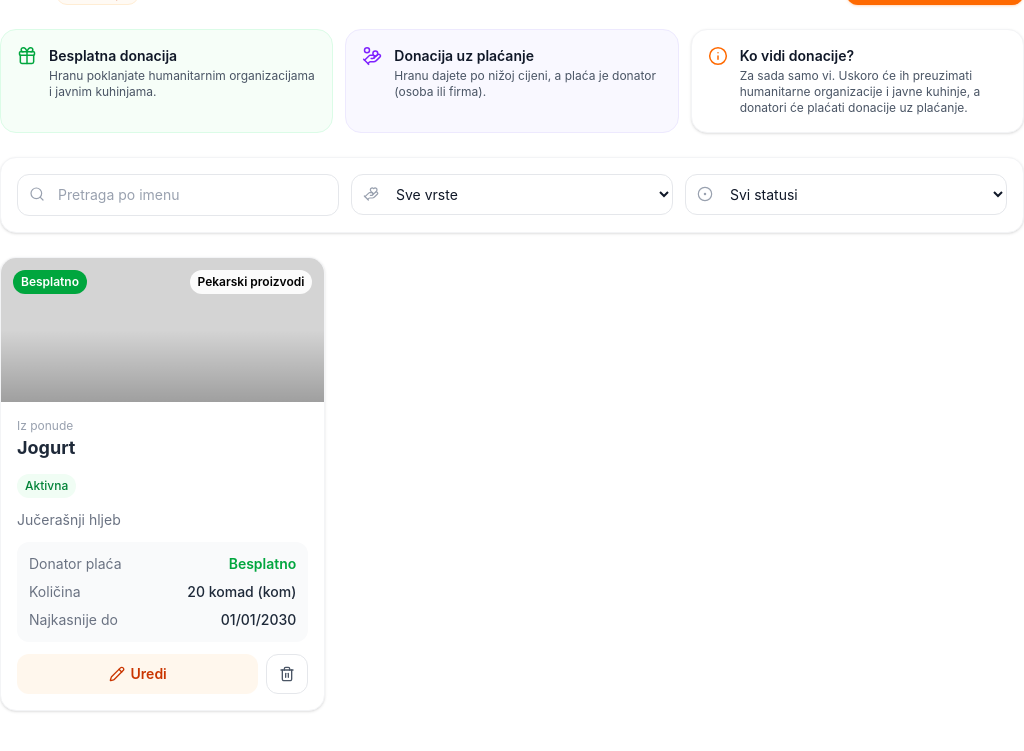
Test: DonateFoodPage › offers returning a moved product to the offer instead of deleting it
(page scrolled)
What coordinates should you click on to do the following:
click the button named "Obriši"
I would click on:
 (287, 674)
Its box is [266,654,308,694].
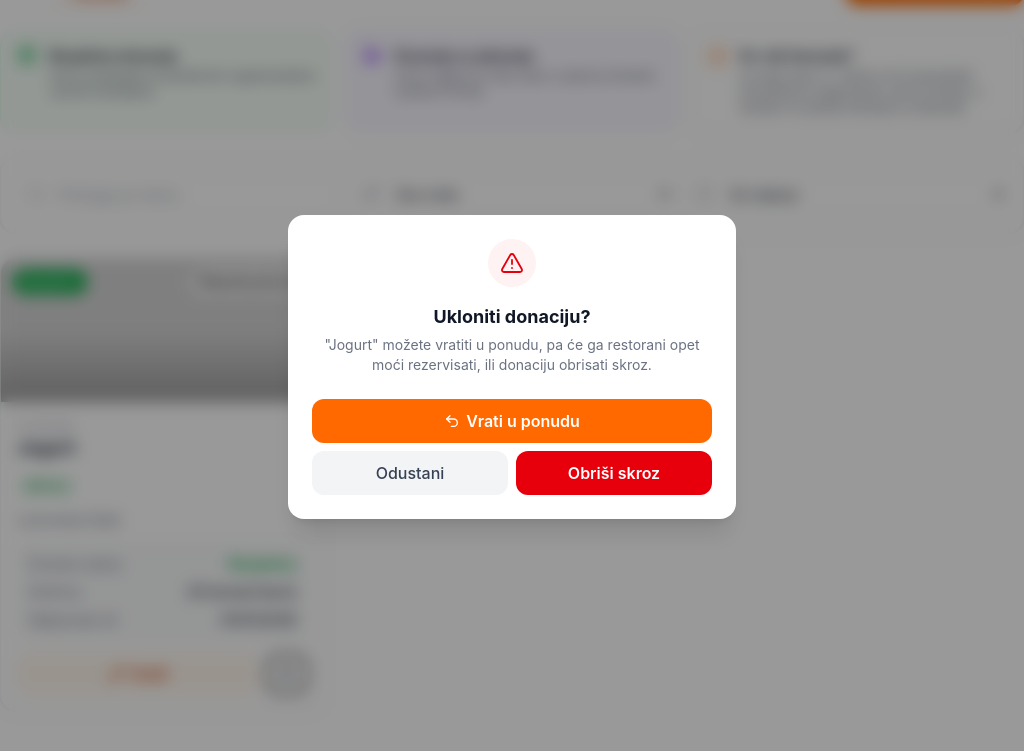
Now the heading "Ukloniti donaciju?" is shown, box [434,303,590,331]
Now the button "Obriši skroz" is shown, box [516,451,712,495]
What coordinates should you click on to do the following:
click the button "Vrati u ponudu"
I would click on:
 (512, 421)
Its box is [312,399,712,443].
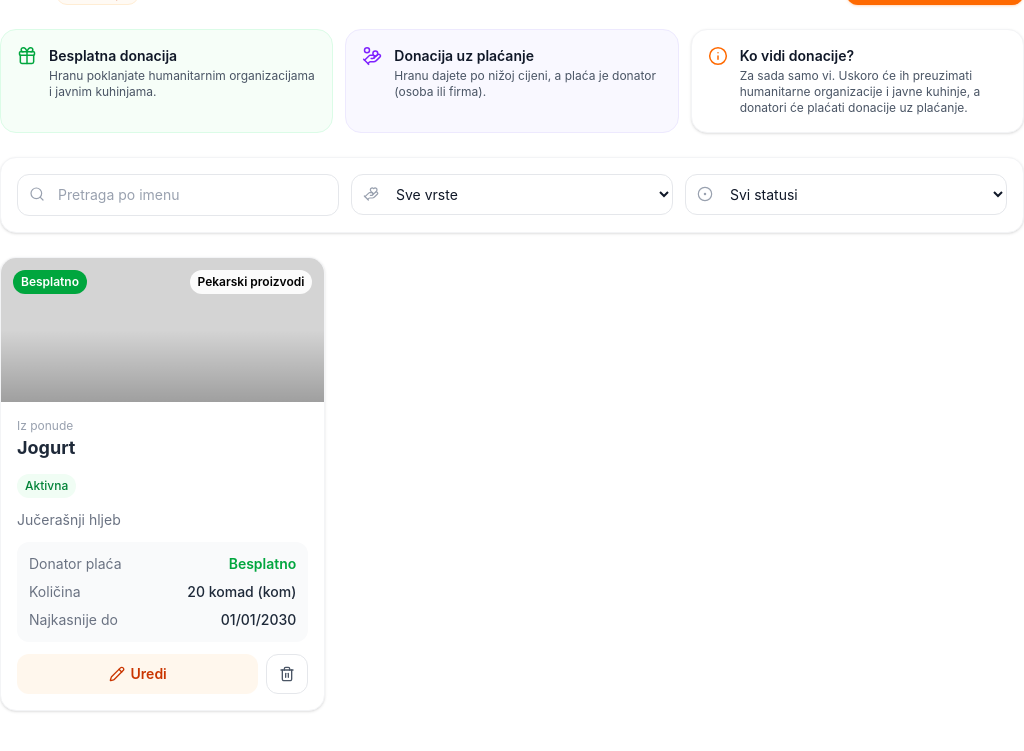
Now the dialog is gone
